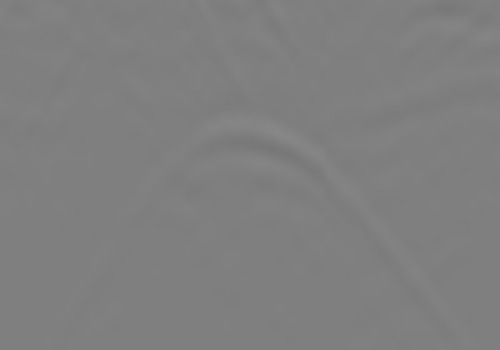hyperbola: (82, 111, 447, 333)
